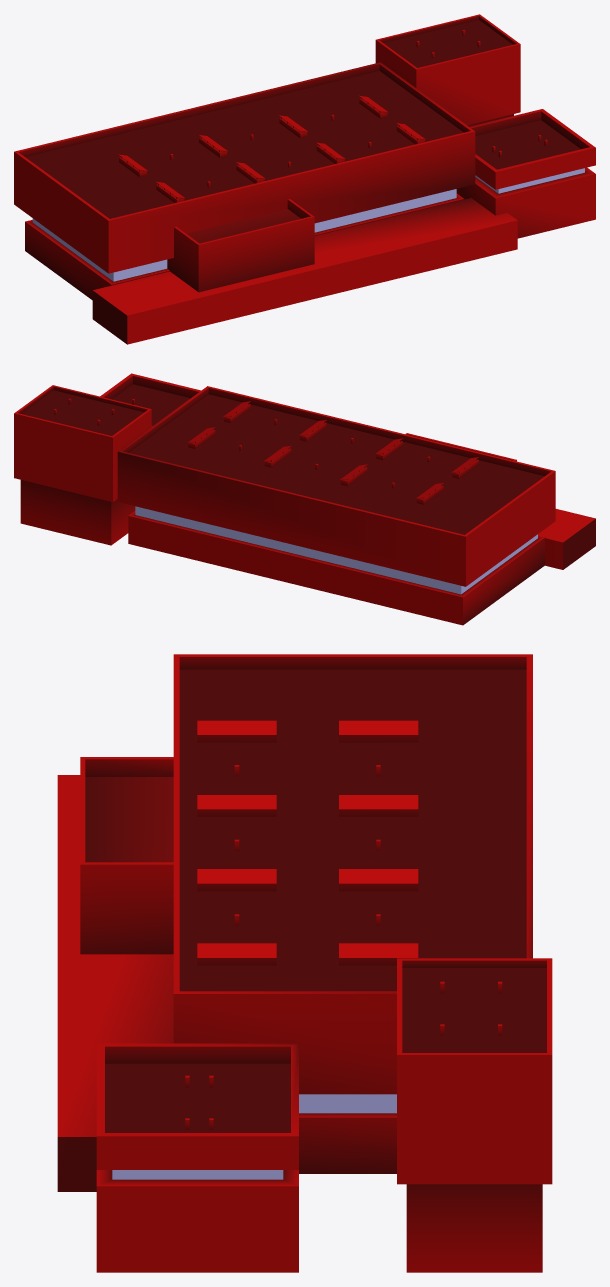
Rendered from buildings-industrial-industrialbuilding_v5.fbx.
The picture shows the model from 3 angles, top to bottom: view 1: azimuth 30°, elevation 25°; view 2: azimuth 150°, elevation 25°; view 3: azimuth 270°, elevation 25°; orthographic projection. The views are drawn at different scales.
Visible parts, largest first — view 1: IndustrialBuilding_v5_base, IndustrialBuilding_v5_windowRefl; view 2: IndustrialBuilding_v5_base, IndustrialBuilding_v5_windowRefl; view 3: IndustrialBuilding_v5_base, IndustrialBuilding_v5_windowRefl.
Part boxes in pixels (x1=…): IndustrialBuilding_v5_base: x1=14, y1=14, x2=595, y2=344; IndustrialBuilding_v5_windowRefl: x1=32, y1=168, x2=584, y2=281; IndustrialBuilding_v5_base: x1=14, y1=373, x2=595, y2=625; IndustrialBuilding_v5_windowRefl: x1=135, y1=506, x2=537, y2=594; IndustrialBuilding_v5_base: x1=57, y1=654, x2=552, y2=1272; IndustrialBuilding_v5_windowRefl: x1=112, y1=1094, x2=396, y2=1179.
Size of the model in its own units: 50.86 by 11.92 by 23.76.
